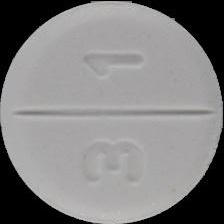68788-9917: (0, 0, 224, 224)
